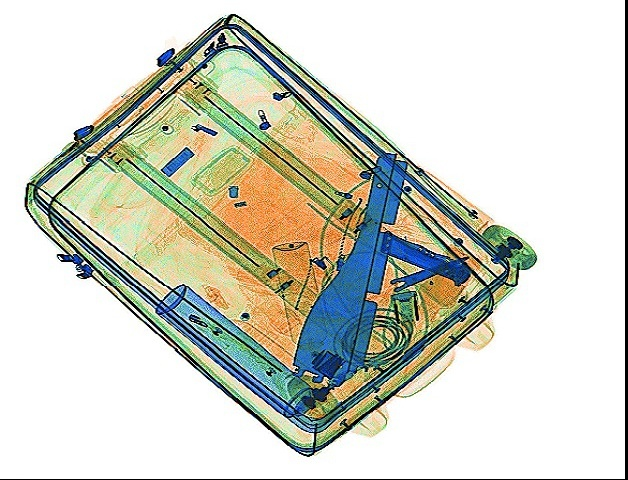knife: (377, 227, 472, 286)
pressure: (153, 280, 315, 419), (269, 236, 329, 351)
scissors: (386, 254, 469, 292)
